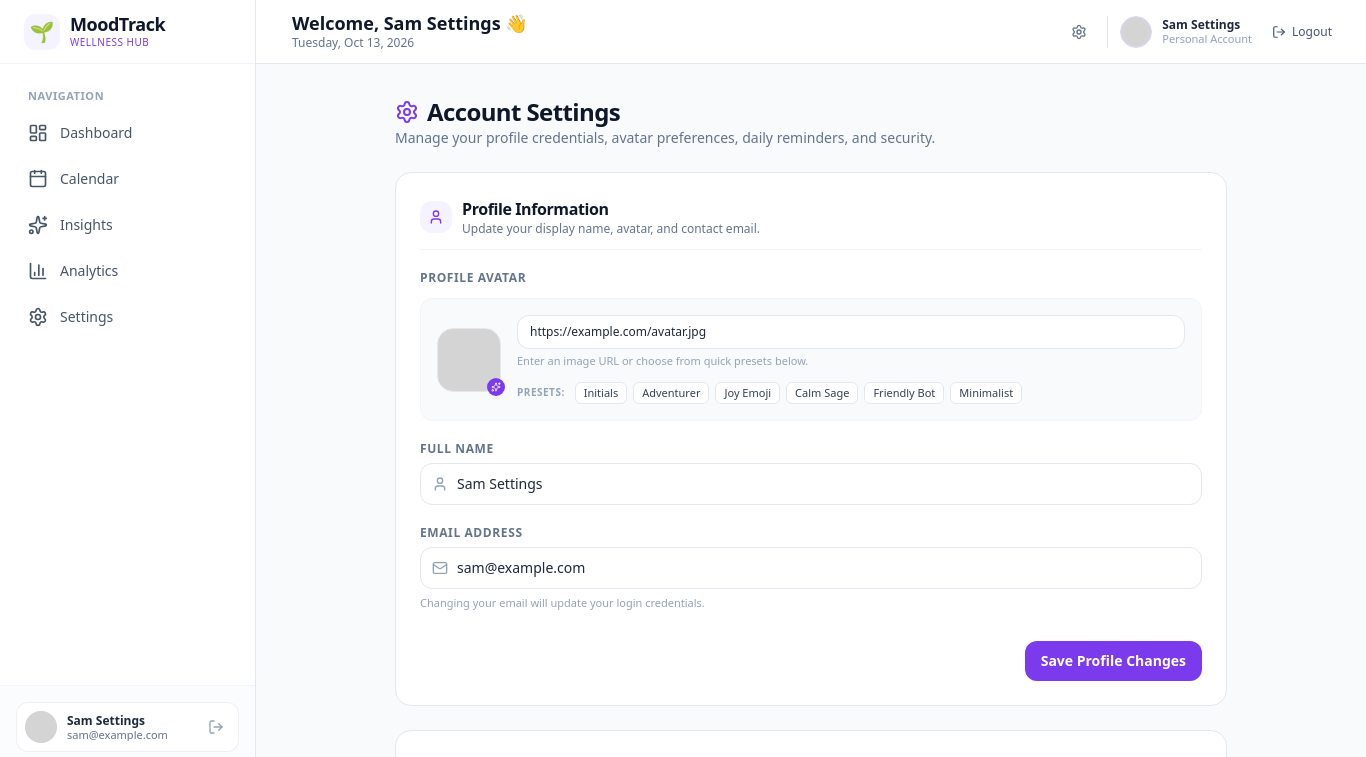
Test case: Frontend: SettingsPage Component › updates profile name and avatar successfully
Replace the text in the field with placeholder "Your name" below "Full Name" with "Sam Updated": [811, 484] box [420,463,1202,505]
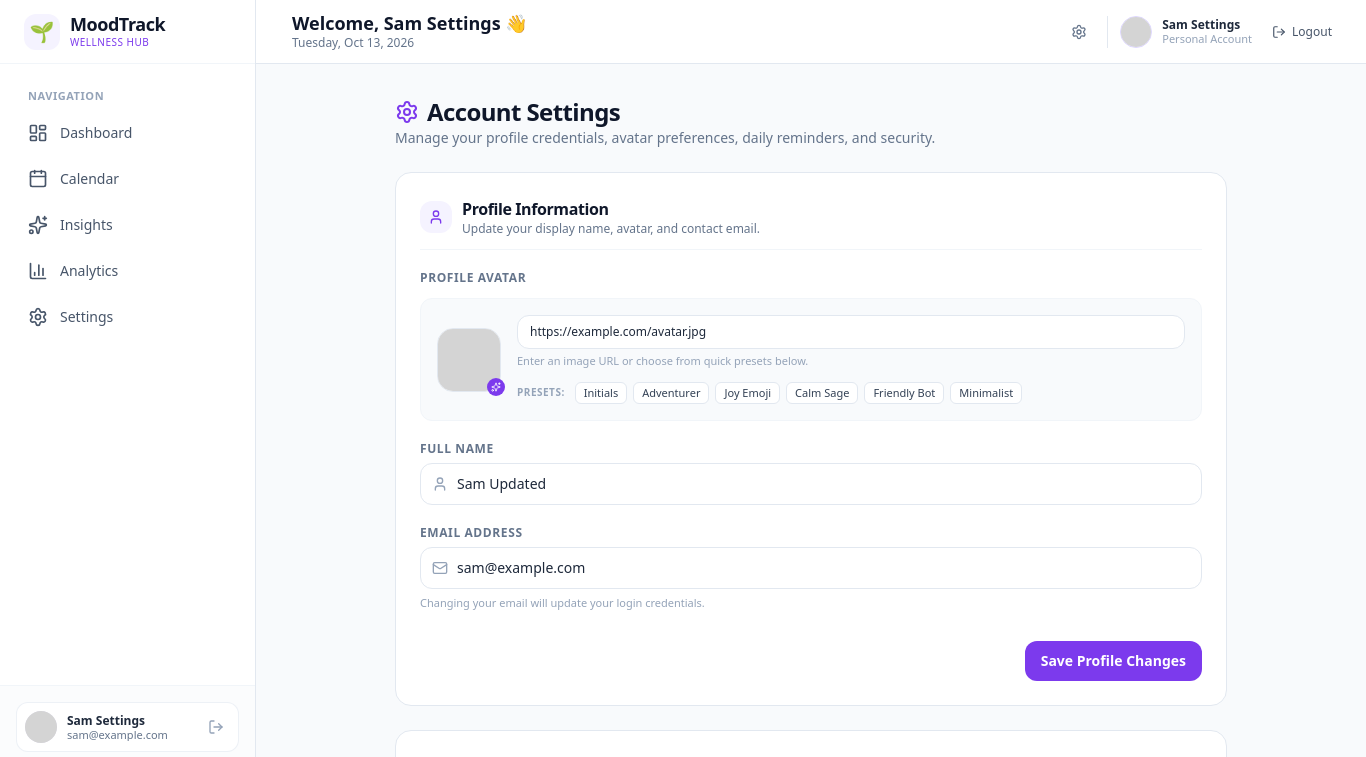
Click the button "Save Profile Changes": [1113, 661] box [1025,641,1202,681]
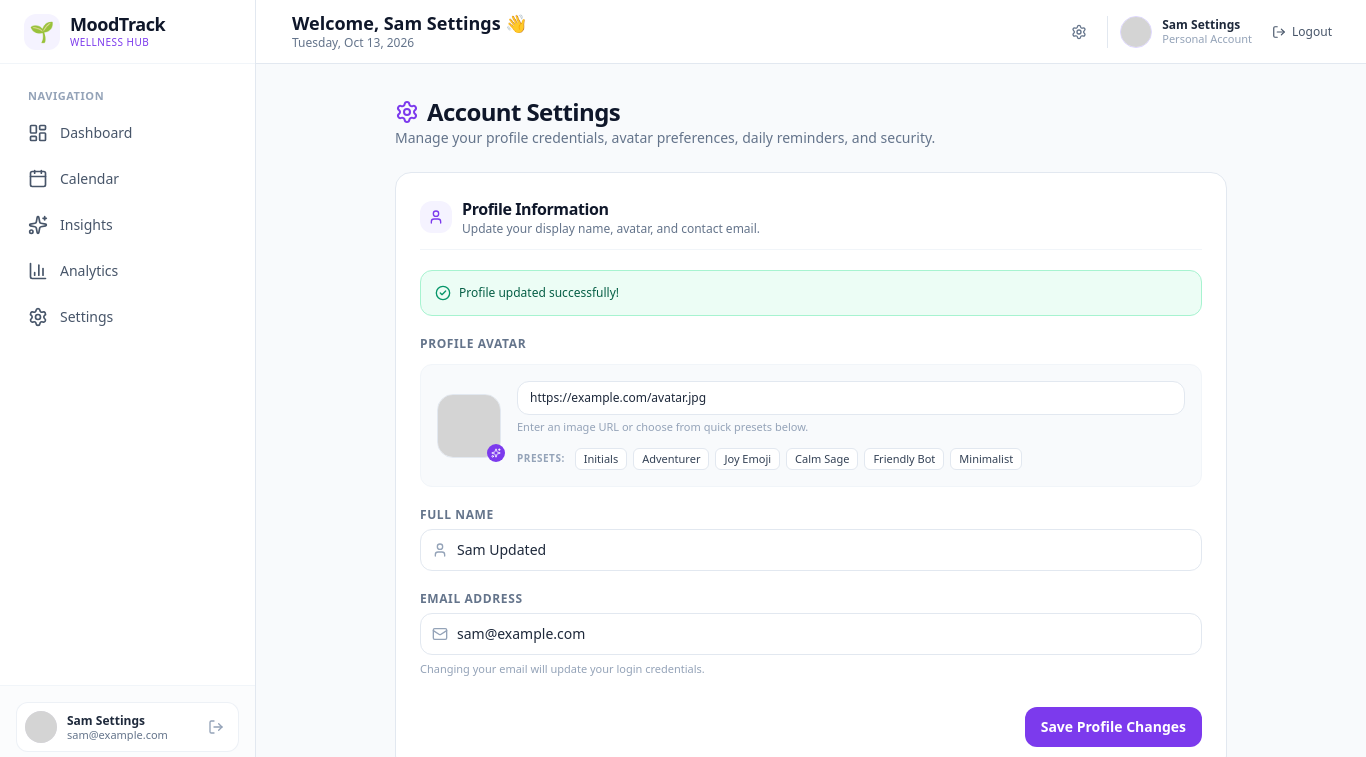
Expected: the text "Profile updated successfully!" is shown, [459,285,619,301]
